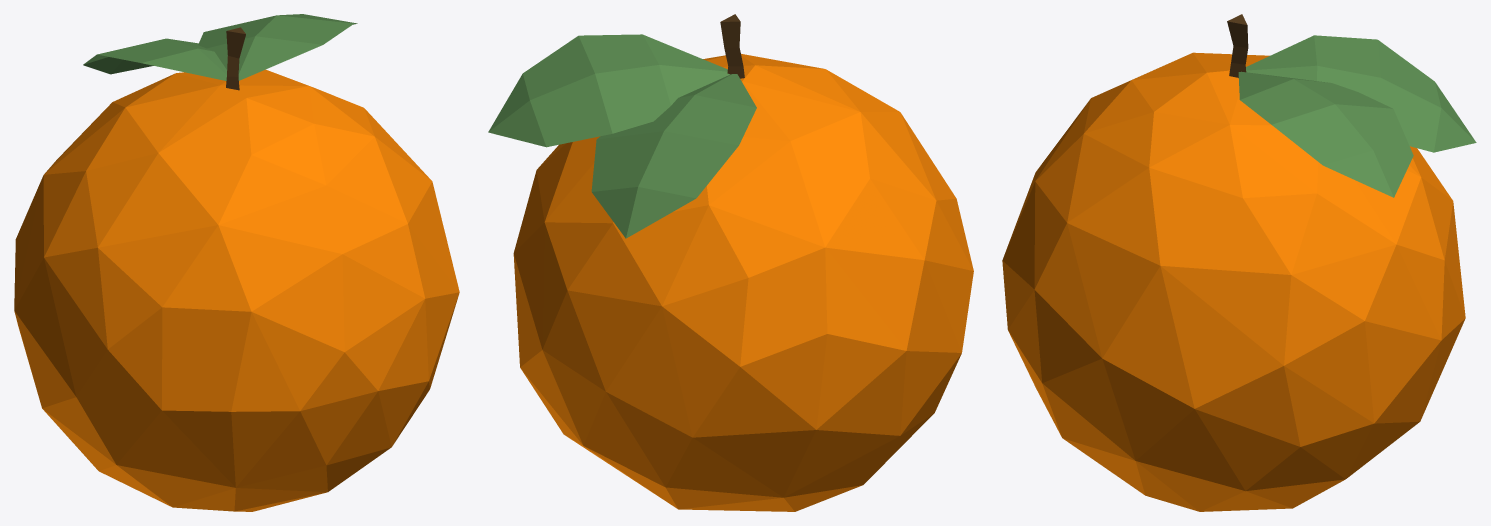
The model's file is Orange.fbx.
3 renders of one model, left to right at view 1: azimuth 30°, elevation 25°; view 2: azimuth 150°, elevation 25°; view 3: azimuth 270°, elevation 25°, orthographic. The views are drawn at different scales.
Parts seen in each view (by area): view 1: Orange; view 2: Orange; view 3: Orange.
Boxes of the visible parts, box(x1,y1,x2,y2) form: Orange: box(14, 14, 459, 511); Orange: box(488, 14, 973, 511); Orange: box(1002, 14, 1476, 511).
Size of the model in its own units: 11.49 by 13.22 by 11.96.
